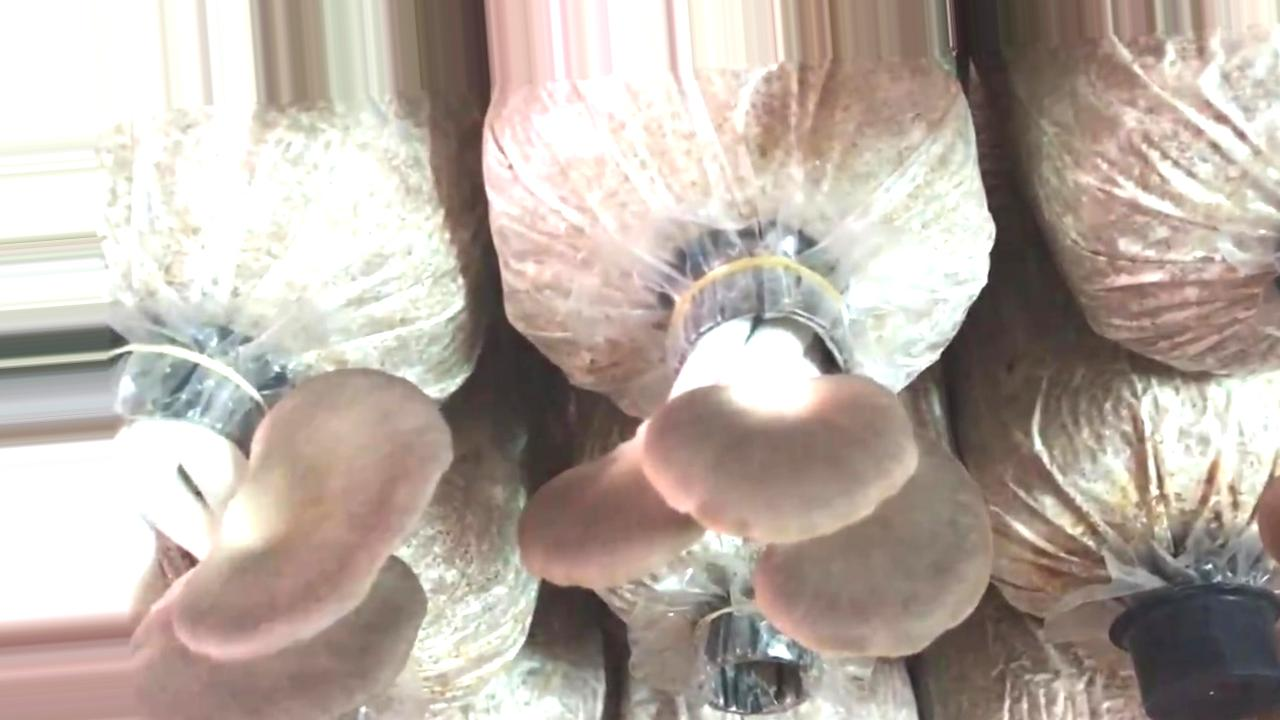nam: (524, 261, 992, 658), (1, 367, 452, 716)
